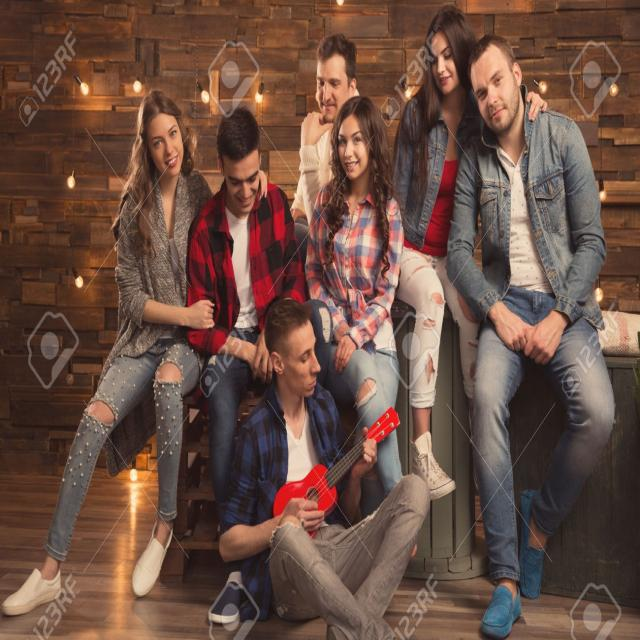body: (0, 82, 271, 621), (442, 28, 620, 640), (389, 4, 550, 500), (217, 294, 431, 639), (184, 105, 308, 625), (387, 3, 498, 508), (303, 92, 420, 560), (285, 30, 363, 269)
